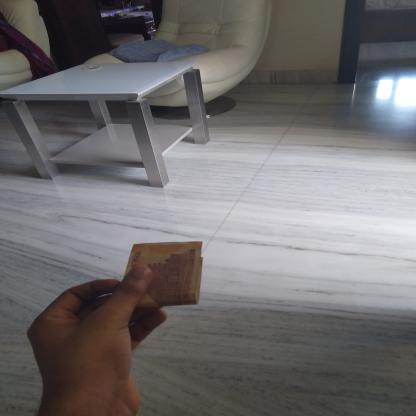New200Back: (121, 244, 203, 308)
